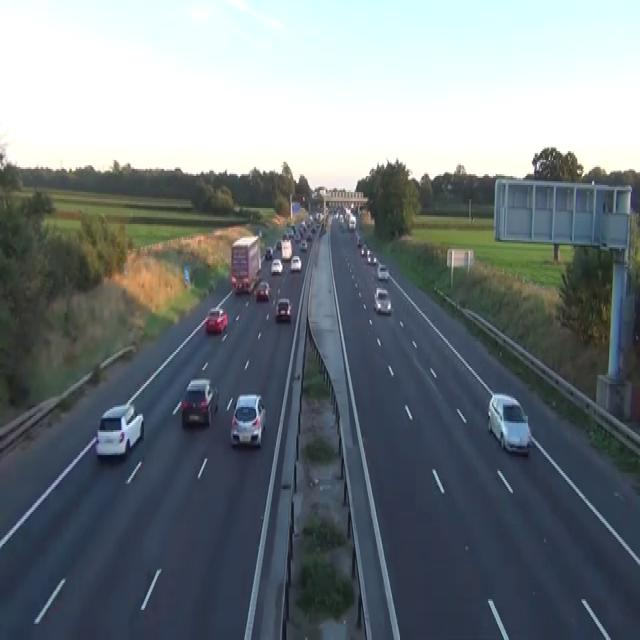Car: (487, 393, 530, 455), (95, 403, 144, 457), (230, 393, 266, 448), (181, 378, 219, 426), (205, 306, 227, 332), (373, 286, 391, 313), (275, 297, 292, 322), (231, 274, 251, 293), (255, 281, 271, 300), (270, 258, 283, 274), (290, 254, 301, 272), (377, 263, 389, 279), (366, 249, 377, 263), (264, 246, 272, 260), (360, 242, 368, 256), (355, 231, 362, 247), (318, 222, 326, 235), (299, 240, 307, 251), (231, 274, 237, 288), (294, 231, 301, 242), (366, 251, 372, 263), (339, 222, 346, 231), (305, 231, 312, 240), (276, 240, 281, 249), (282, 233, 288, 240), (258, 230, 262, 238), (373, 256, 377, 263)
Truck: (230, 235, 261, 293), (281, 238, 292, 260)
